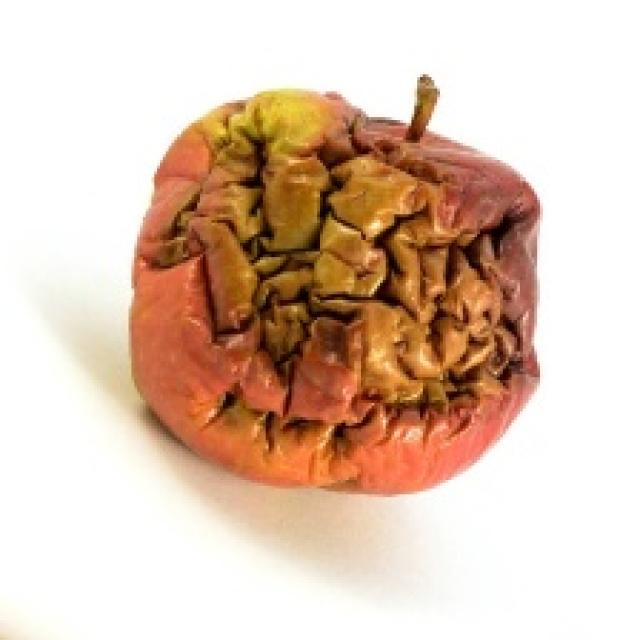rotten_apple: (134, 93, 538, 490)
